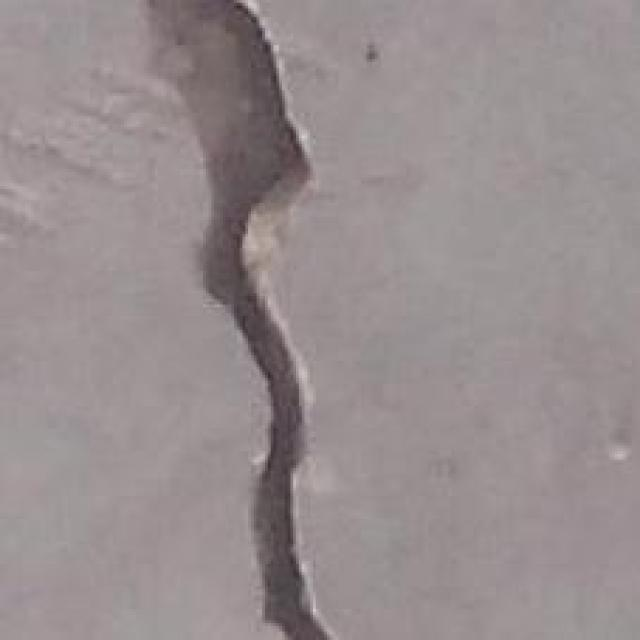Crack: (150, 0, 336, 637)
